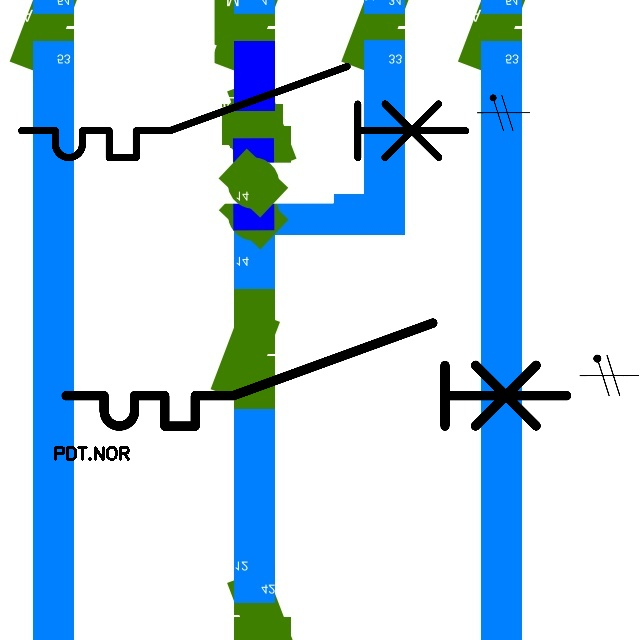interruptor_termomagnetico: (53, 310, 579, 439), (10, 55, 477, 169)
